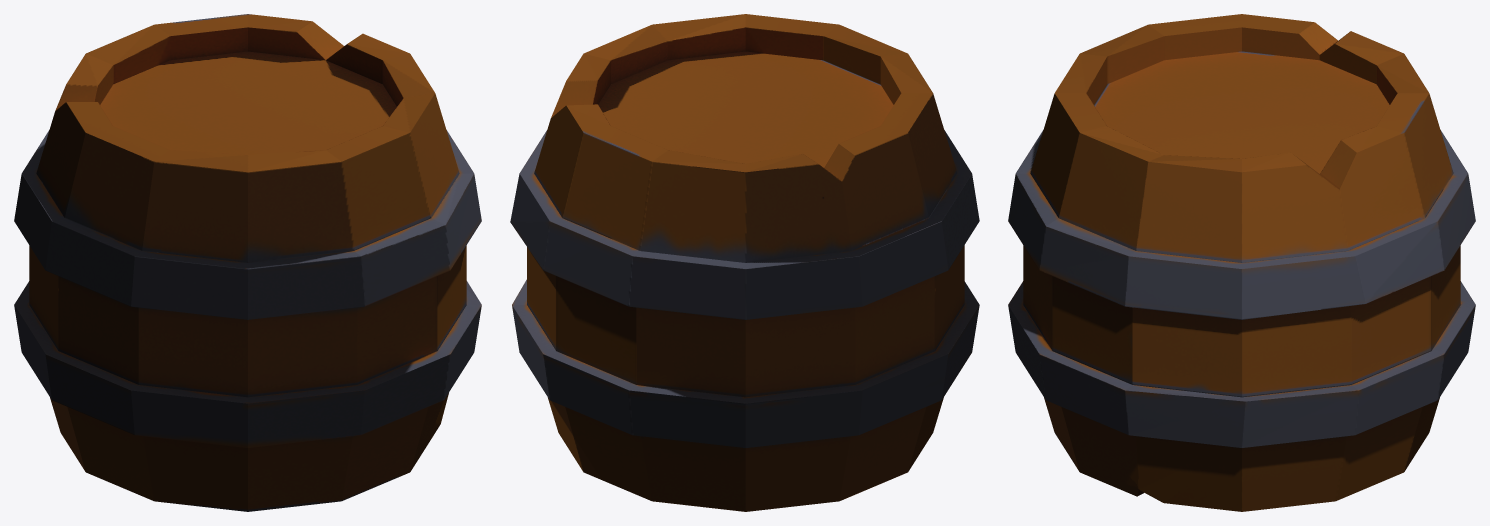
The model's file is Barrel.fbx.
3 renders of one model, left to right at view 1: azimuth 30°, elevation 25°; view 2: azimuth 150°, elevation 25°; view 3: azimuth 270°, elevation 25°, orthographic.
Visible parts, largest first — view 1: Cylinder; view 2: Cylinder; view 3: Cylinder.
Part boxes in pixels (x1,y1,x2,y2): Cylinder: (14,14,481,511); Cylinder: (510,14,979,511); Cylinder: (1008,14,1475,511).
Bounding box in the file's own units: 0.6245 × 0.5068 × 0.6242.
